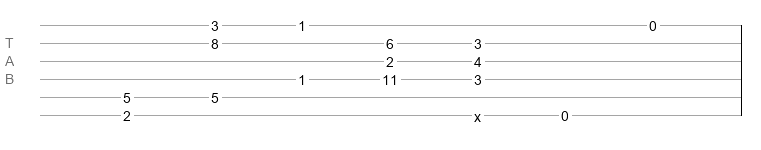0: (561, 108, 569, 118), (649, 18, 657, 28)
1: (298, 72, 306, 82), (298, 18, 306, 28)
11: (382, 72, 398, 82)
2: (123, 108, 131, 118), (386, 54, 394, 64)
3: (211, 18, 219, 28), (474, 36, 482, 46), (474, 72, 482, 82)
4: (474, 54, 482, 64)
5: (123, 90, 131, 100), (211, 90, 219, 100)
6: (386, 36, 394, 46)
8: (211, 36, 219, 46)
x: (474, 109, 481, 117)
